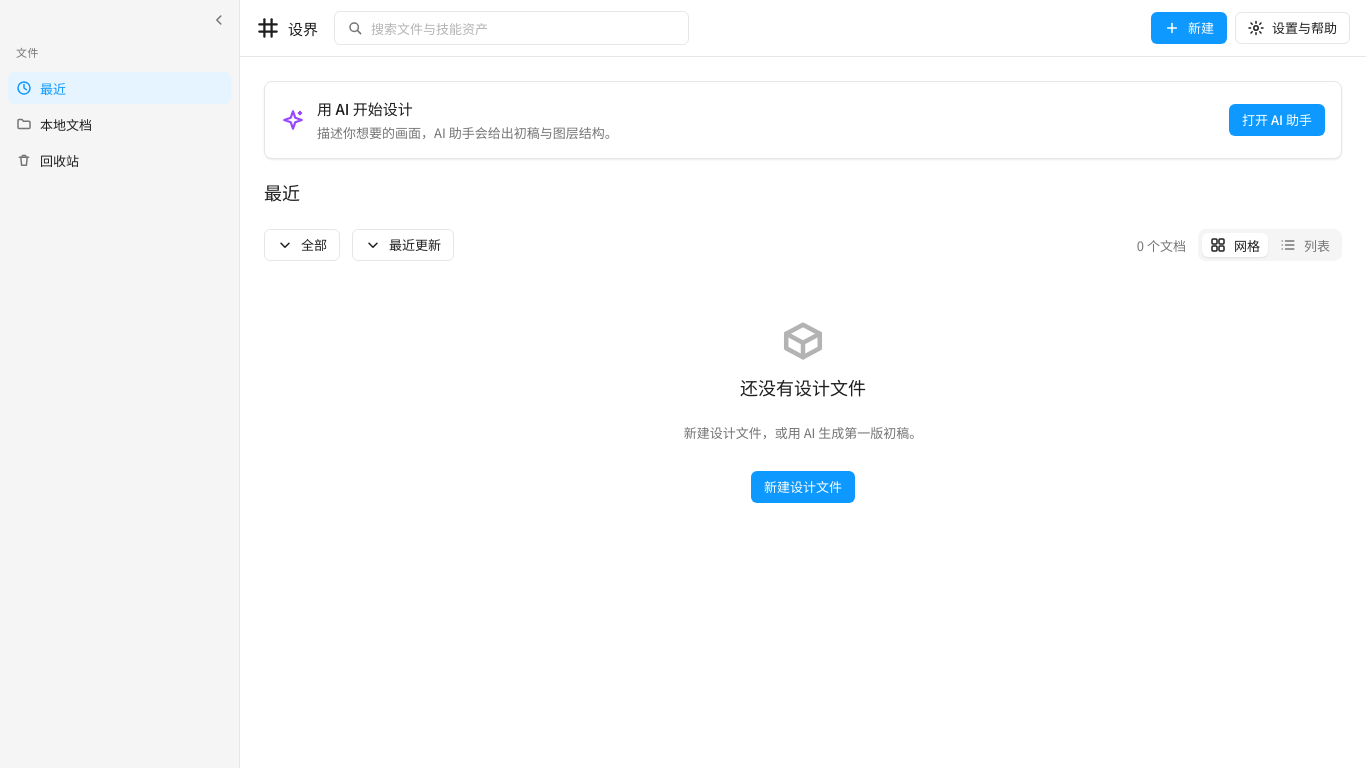
Scenario: 对抗 · 新建对话的重复提交 › 创建失败（同名 doc_exists）→ Toast 用专用分因文案（点名冲突名），不透出 daemon 原文
This screenshot has width=1366, height=768.
Expected: the text "还没有设计文件" is shown, x1=740 y1=377 x2=866 y2=399
Click the button "新建设计文件": (803, 487) x1=751 y1=471 x2=855 y2=503
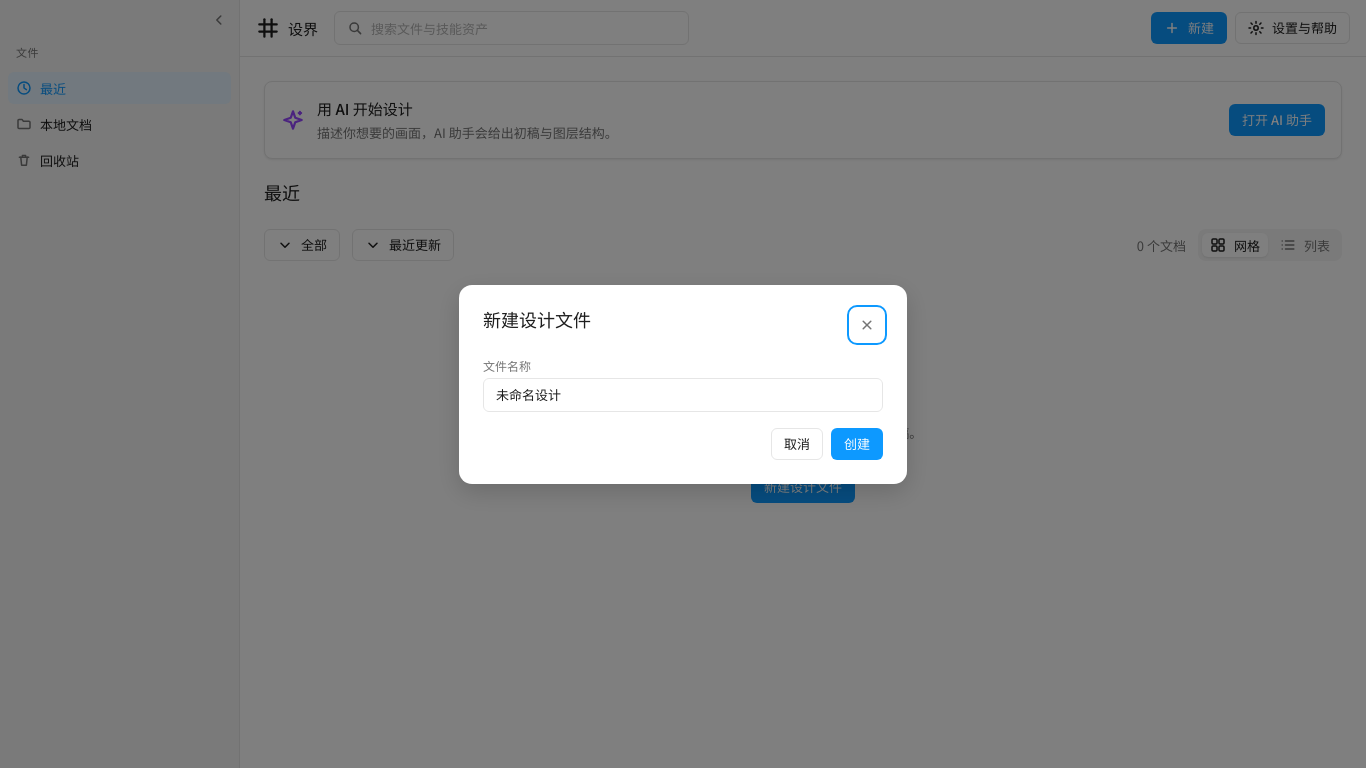
In the field labelled "文件名称": (683, 394) x1=496 y1=378 x2=870 y2=410, type "重复名"
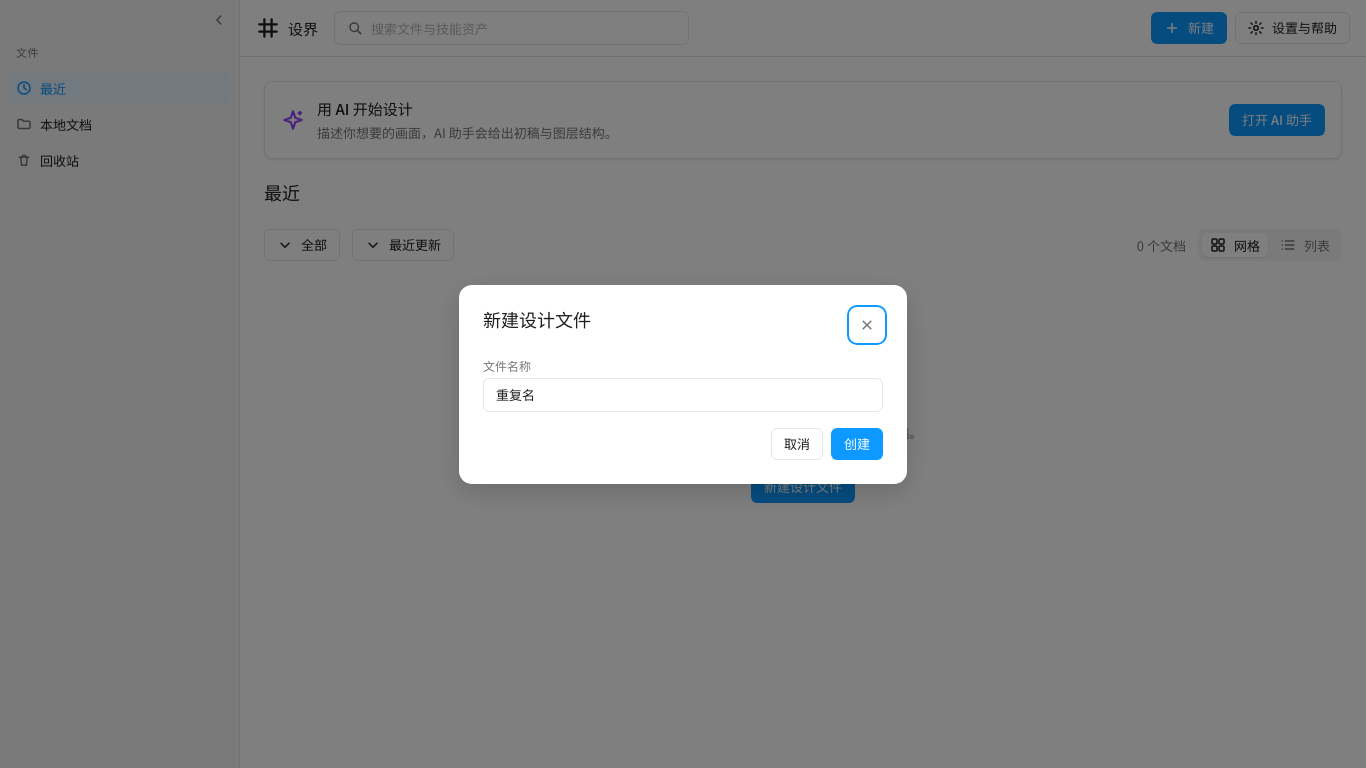
Press Enter in the field labelled "文件名称", box x1=496 y1=378 x2=870 y2=410
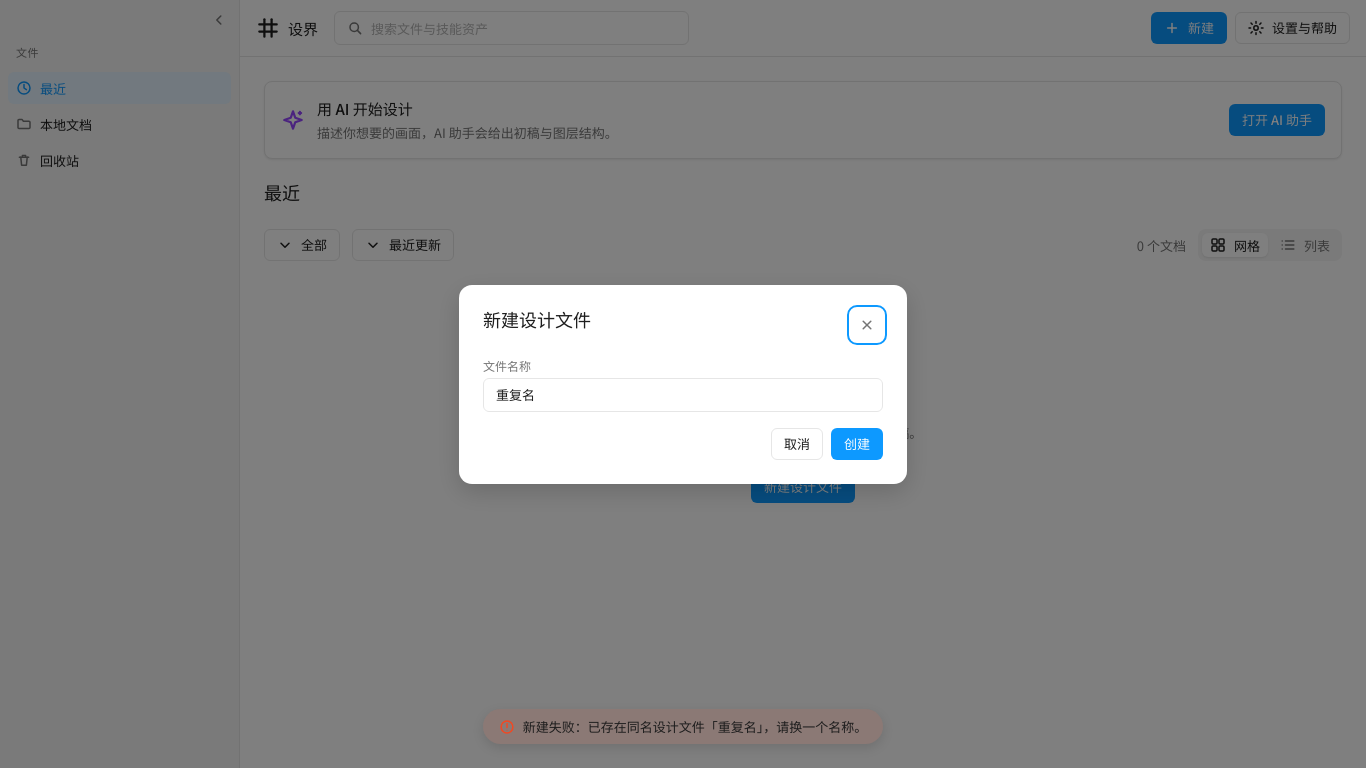
Result: the text "新建失败：已存在同名设计文件「重复名」，请换一个名称。" is shown at x1=523 y1=717 x2=867 y2=736
